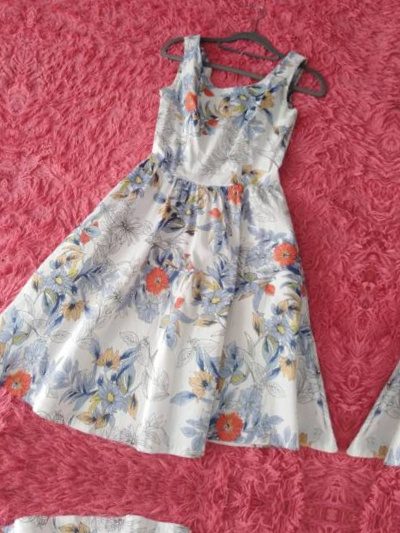Dress: (0, 0, 400, 482), (338, 45, 400, 533), (0, 490, 326, 533), (0, 0, 32, 421)
